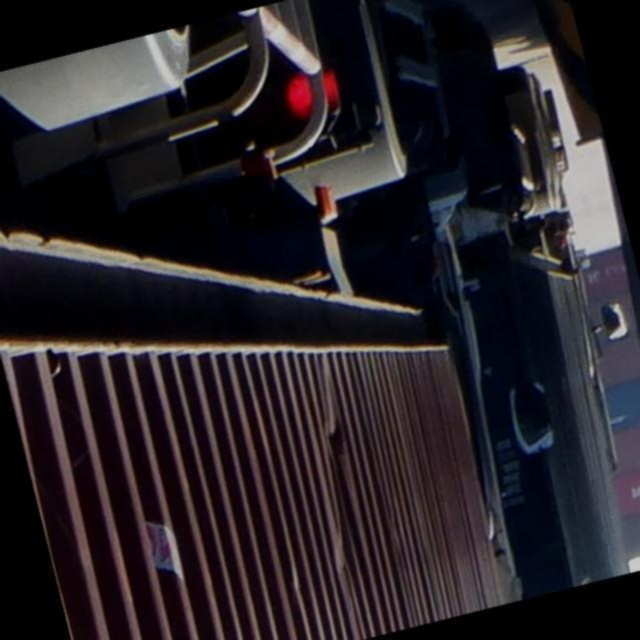Dent: (323, 503, 372, 617), (314, 404, 361, 484)
